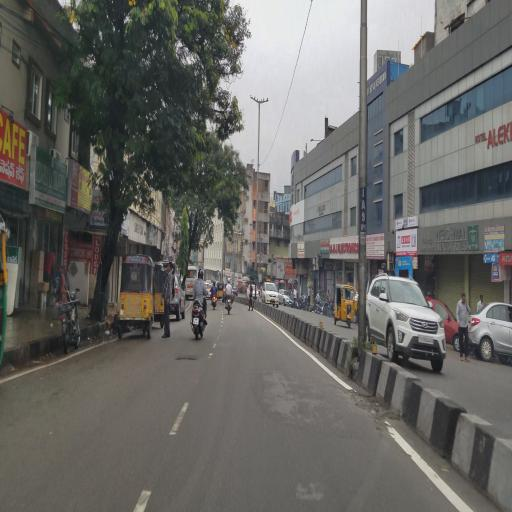street_light_0: (258, 92, 273, 112), (242, 91, 258, 109)
